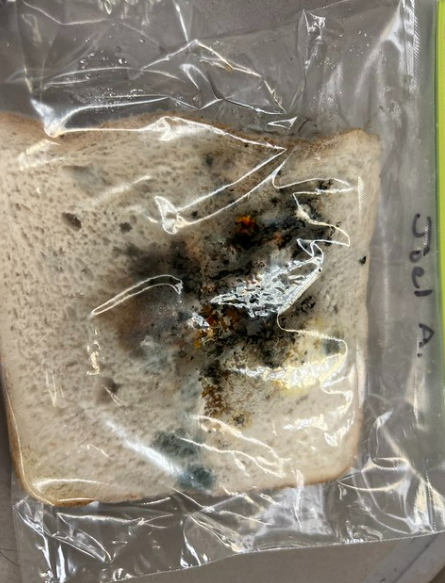mold_bread: (120, 141, 343, 406), (142, 419, 208, 457), (175, 461, 221, 494), (69, 156, 102, 193)
